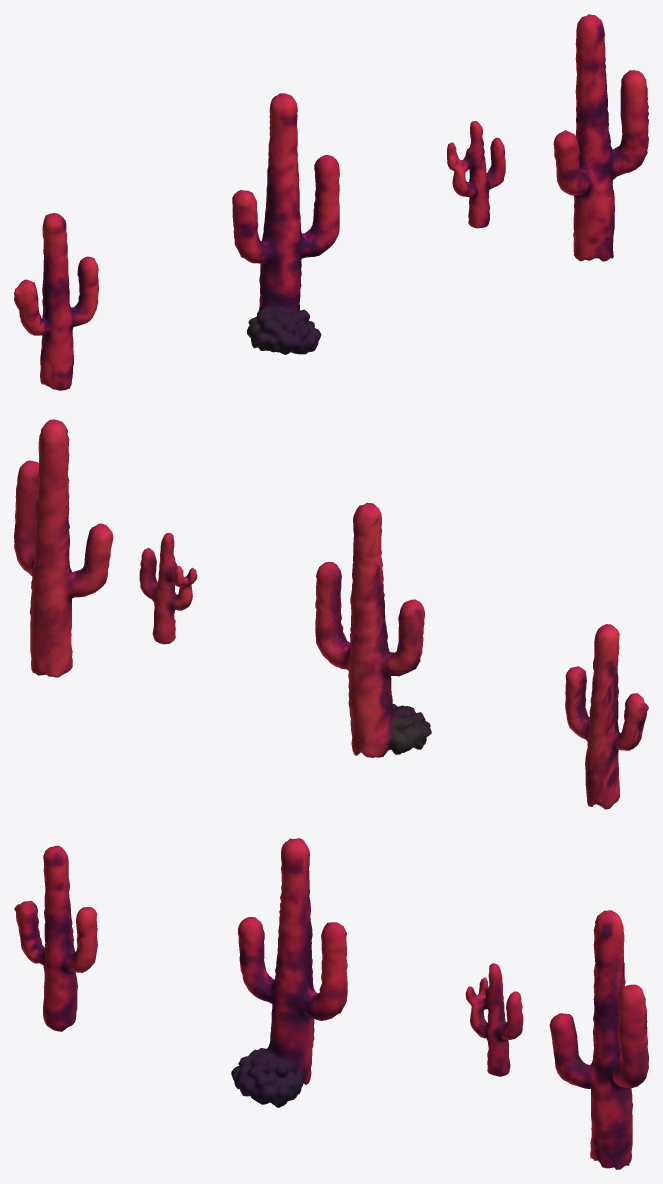
Rendered from copper_mine_desert_trail_backdrop_prop.glb.
3 views of the same model, one above another, from view 1: azimuth 30°, elevation 25°; view 2: azimuth 150°, elevation 25°; view 3: azimuth 330°, elevation 25° (orthographic). The views are drawn at different scales.
Size of the model in its own units: 1.91 by 0.7241 by 0.2231.
Materials: 1 (1 with a texture image).
